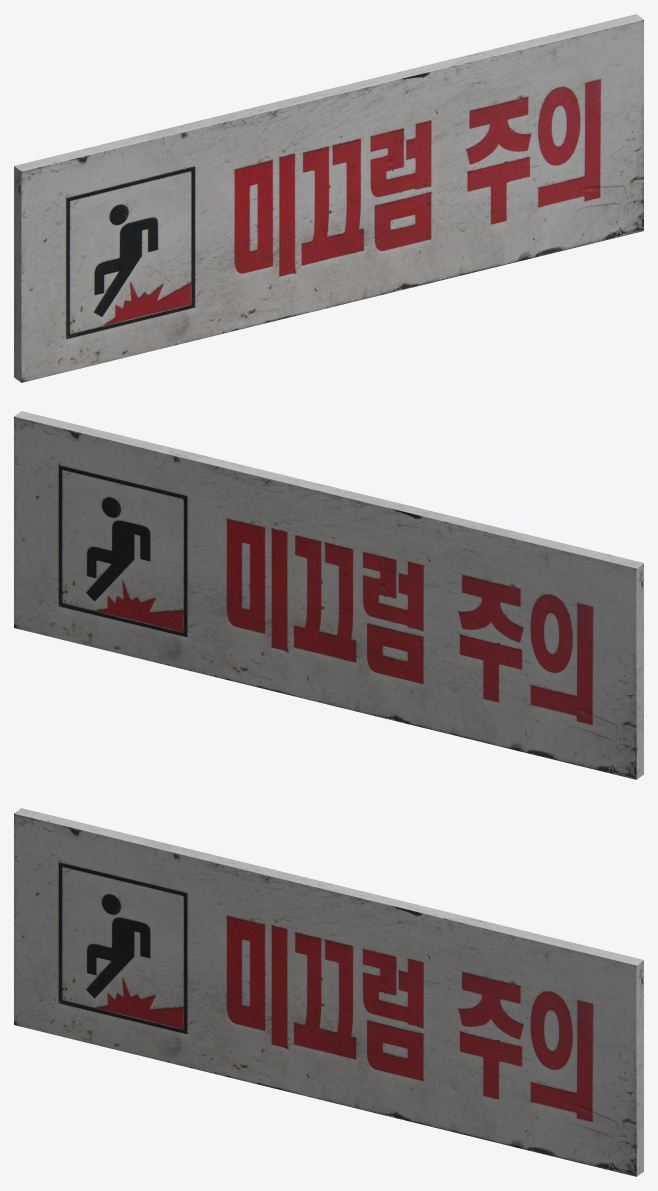
Rendered from slipwarning.glb.
The picture shows the model from 3 angles, top to bottom: view 1: azimuth 30°, elevation 25°; view 2: azimuth 150°, elevation 25°; view 3: azimuth 330°, elevation 25°; orthographic projection.
Visible parts, largest first — view 1: Korean SlipWarning Panel_Highpoly; view 2: Korean SlipWarning Panel_Highpoly; view 3: Korean SlipWarning Panel_Highpoly.
Boxes of the visible parts, bbox=[...] form: Korean SlipWarning Panel_Highpoly: bbox=[14, 14, 643, 382]; Korean SlipWarning Panel_Highpoly: bbox=[14, 411, 643, 779]; Korean SlipWarning Panel_Highpoly: bbox=[14, 808, 643, 1176].
Size of the model in its own units: 0.2861 by 0.093 by 0.00609.
Materials: 1 (1 with a texture image).
